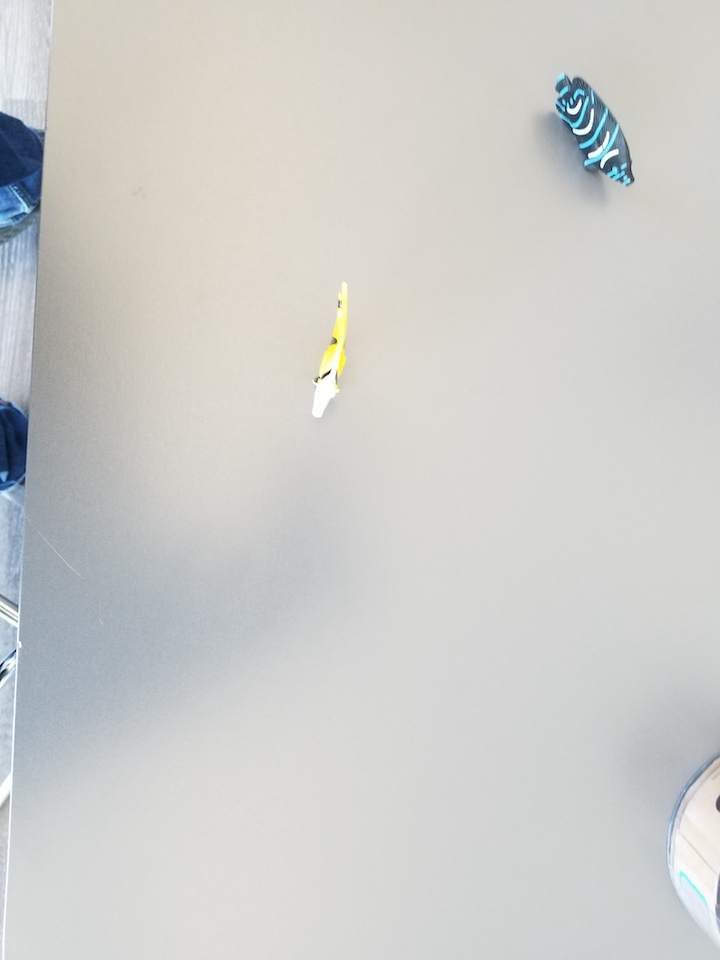danger: (308, 278, 354, 420)
fish: (550, 70, 641, 189)
